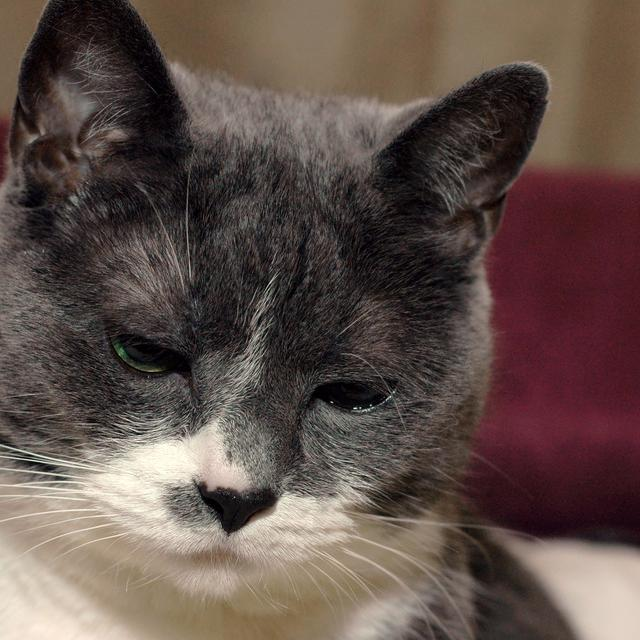animals: (12, 0, 536, 525)
